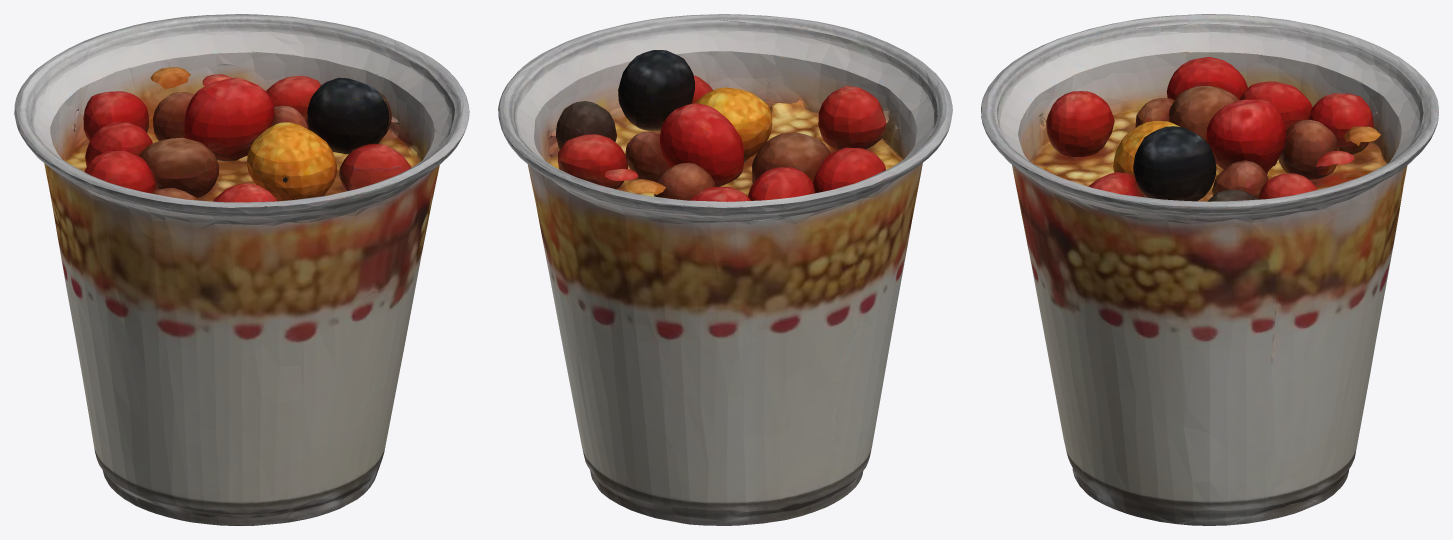
3 renders of one model, left to right at view 1: azimuth 30°, elevation 25°; view 2: azimuth 150°, elevation 25°; view 3: azimuth 270°, elevation 25°, orthographic.
Visible parts, largest first — view 1: geometry_0; view 2: geometry_0; view 3: geometry_0.
Boxes of the visible parts, <box> form: geometry_0: <box>14,14,469,525</box>; geometry_0: <box>498,14,952,525</box>; geometry_0: <box>981,14,1438,525</box>.
Bounding box in the file's own units: 0.9934 × 0.9158 × 0.9986.
Materials: 1 (1 with a texture image).
